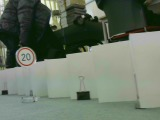speed_20: (12, 45, 39, 69)
